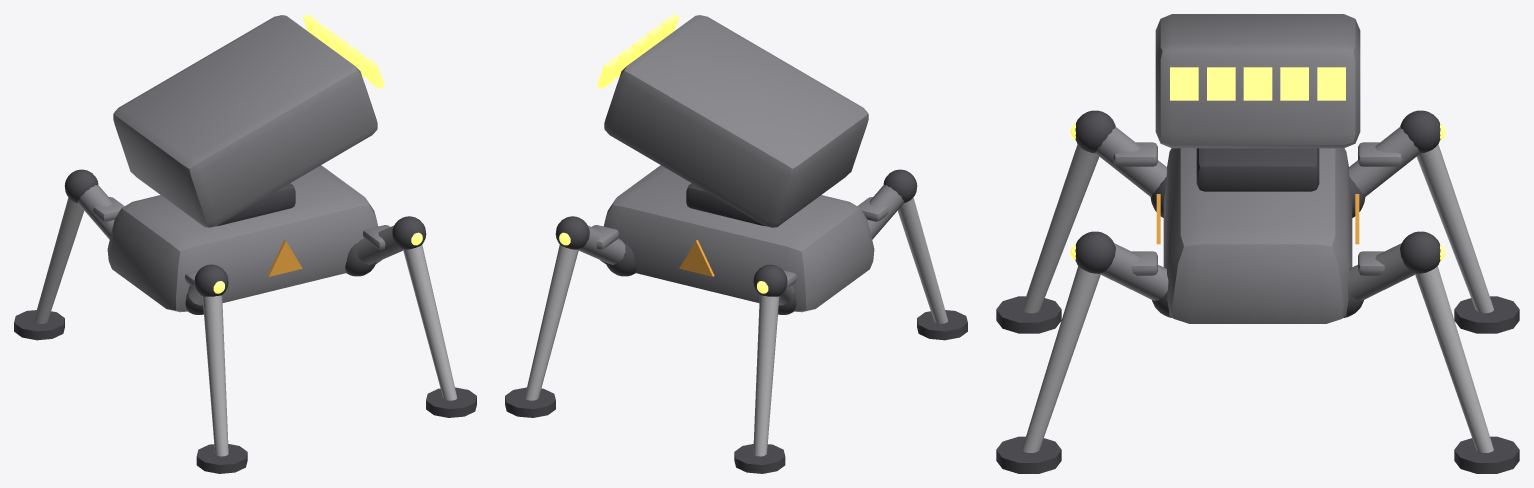
File: rob_heavy.glb
The picture shows the model from 3 angles, left to right: view 1: azimuth 30°, elevation 25°; view 2: azimuth 150°, elevation 25°; view 3: azimuth 270°, elevation 25°; orthographic projection. The views are drawn at different scales.
Visible parts, largest first — view 1: turret_m, rob_heavy, limb_r0_m, limb_r1_m, limb_l1_m; view 2: turret_m, rob_heavy, limb_l0_m, limb_l1_m, limb_r1_m; view 3: turret_m, rob_heavy, limb_l0_m, limb_r0_m, limb_l1_m, limb_r1_m.
Boxes of the visible parts, <box> form: turret_m: <box>113,14,384,227</box>; rob_heavy: <box>107,165,381,312</box>; limb_r0_m: <box>345,216,476,417</box>; limb_r1_m: <box>185,264,247,473</box>; limb_l1_m: <box>14,169,124,340</box>; turret_m: <box>597,14,868,227</box>; rob_heavy: <box>600,165,874,312</box>; limb_l0_m: <box>505,216,636,417</box>; limb_l1_m: <box>734,264,796,473</box>; limb_r1_m: <box>857,169,967,340</box>; turret_m: <box>1155,14,1360,191</box>; rob_heavy: <box>1156,148,1359,323</box>; limb_l0_m: <box>1344,231,1519,473</box>; limb_r0_m: <box>996,231,1171,473</box>; limb_l1_m: <box>1349,110,1519,333</box>; limb_r1_m: <box>996,110,1166,333</box>.
Size of the model in its own units: 0.9642 by 1.05 by 1.28.
